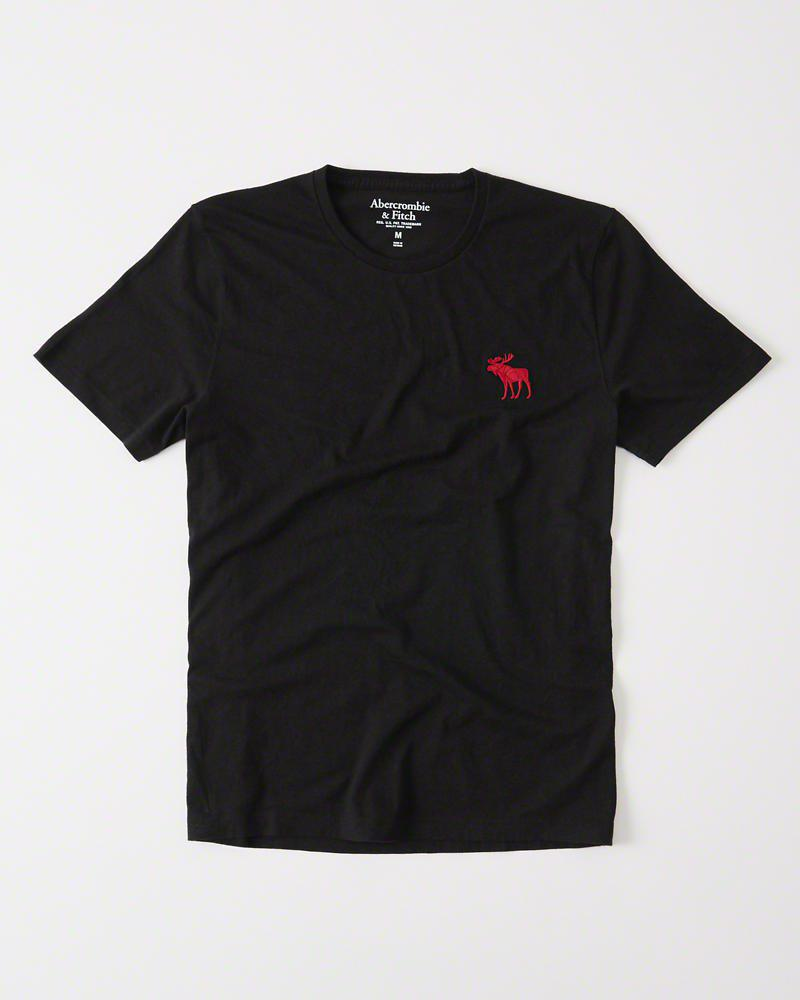teeshirt: (21, 151, 800, 890)
